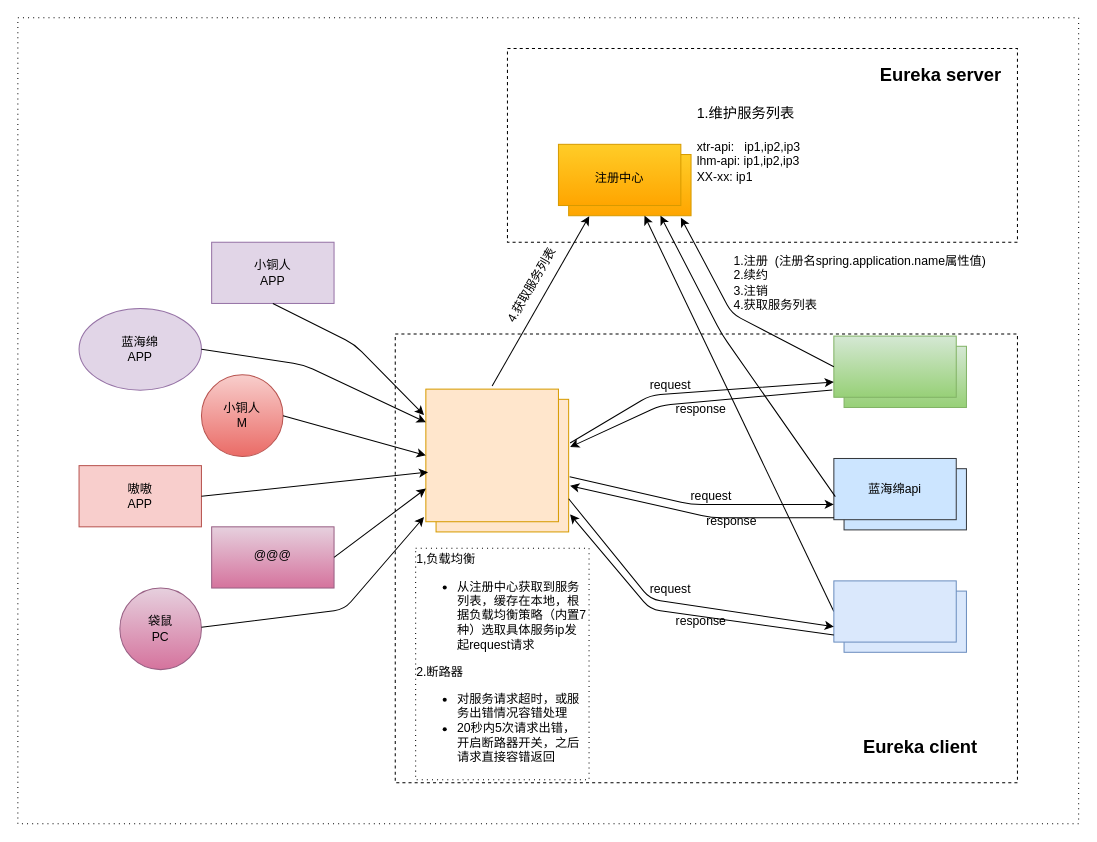
This 1097x842 diagram has some shape labels left out. Each missing label, with the centre of its shape:
"Application client （服务对外接口）" goes at point (491, 455).
"XXX 模块化后，可以是用户模块，评论模块.." goes at point (894, 611).
"小铜人api" goes at point (894, 366).
